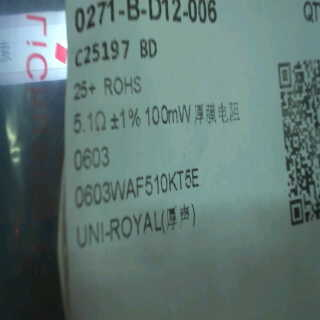5.1R: (70, 108, 108, 143)
